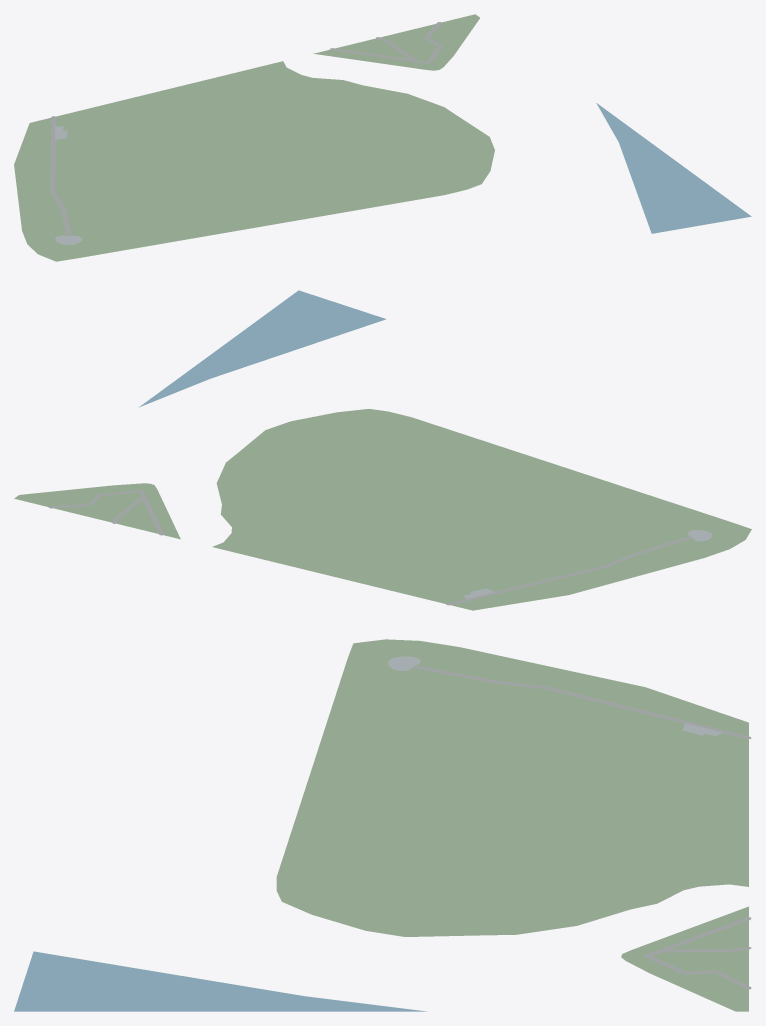
The model's file is 0_-4-known-coarse.glb.
The picture shows the model from 3 angles, top to bottom: view 1: azimuth 30°, elevation 25°; view 2: azimuth 150°, elevation 25°; view 3: azimuth 270°, elevation 25°; orthographic projection. The views are drawn at different scales.
Size of the model in its own units: 407 by 0.15 by 341.
